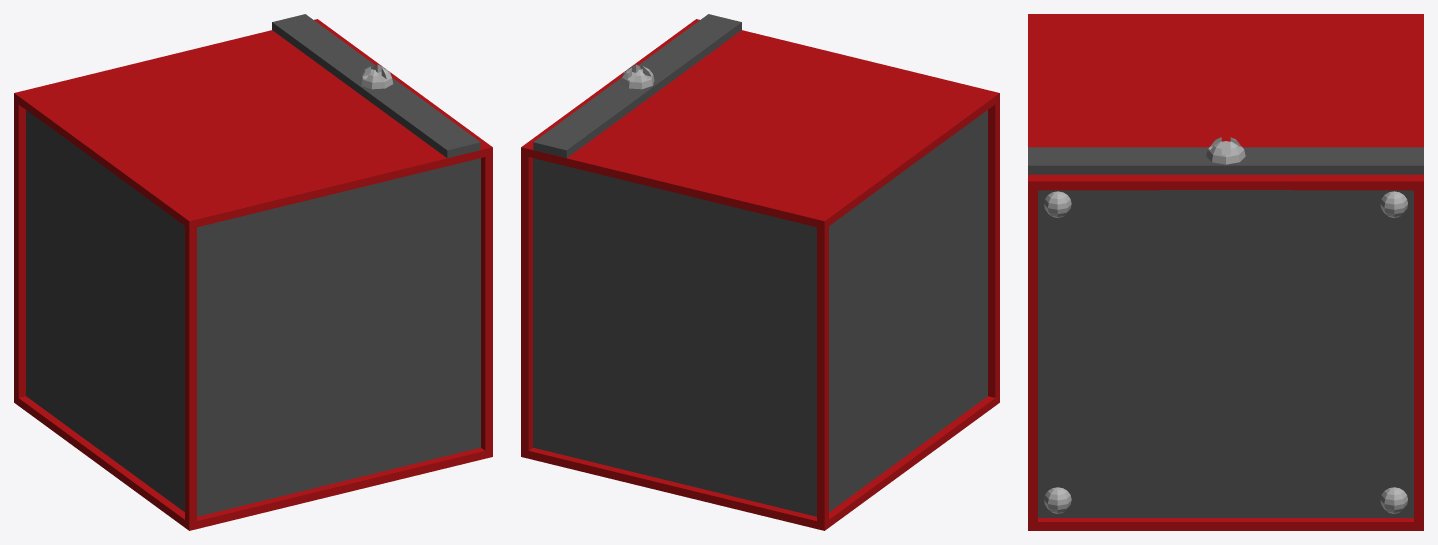
Rendered from machine_tile2.fbx.
3 renders of one model, left to right at view 1: azimuth 30°, elevation 25°; view 2: azimuth 150°, elevation 25°; view 3: azimuth 270°, elevation 25°, orthographic. The views are drawn at different scales.
Parts seen in each view (by area): view 1: Mesh; view 2: Mesh; view 3: Mesh.
Part boxes in pixels (box(x1,y1,x2,y2)): Mesh: box(14, 14, 492, 530); Mesh: box(521, 14, 999, 530); Mesh: box(1028, 14, 1423, 530).
Size of the model in its own units: 1.01 by 1.05 by 1.
